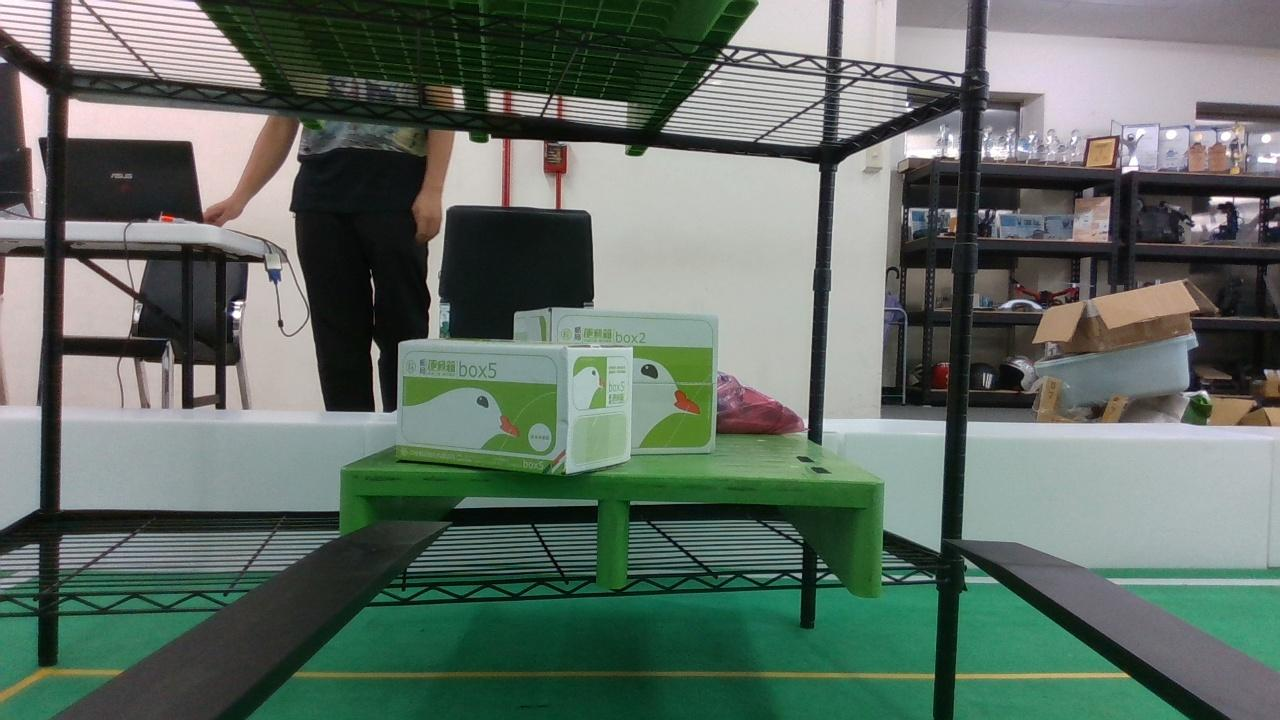Pallet: (338, 475, 893, 595)
